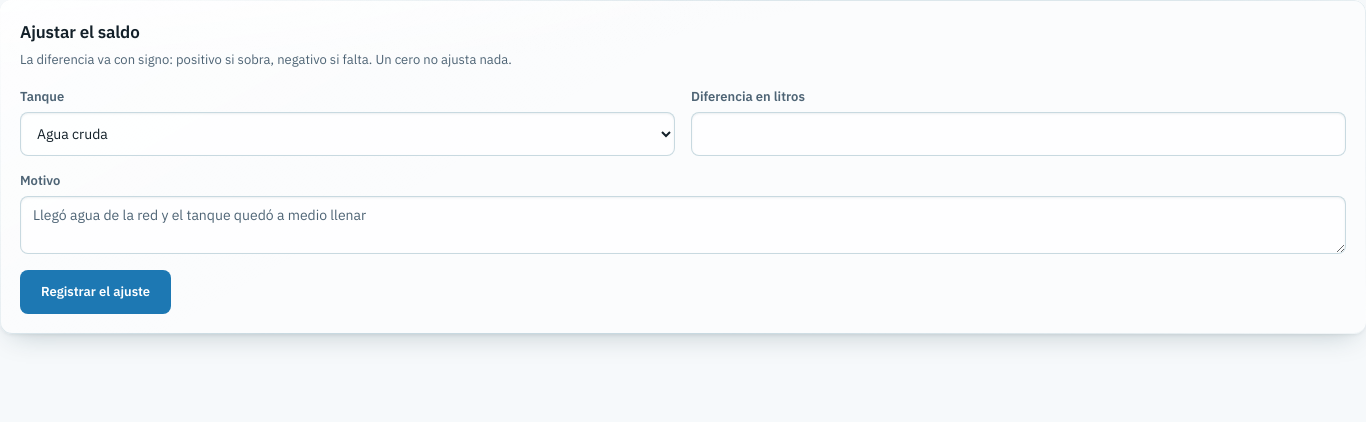
Test: AjustarAgua — el resultado se ve antes de confirmar › restar también, y el número baja
Step 1. Type "-500" into the number field labelled "Diferencia en litros" → (1018, 134), box 691,112 -> 1346,156
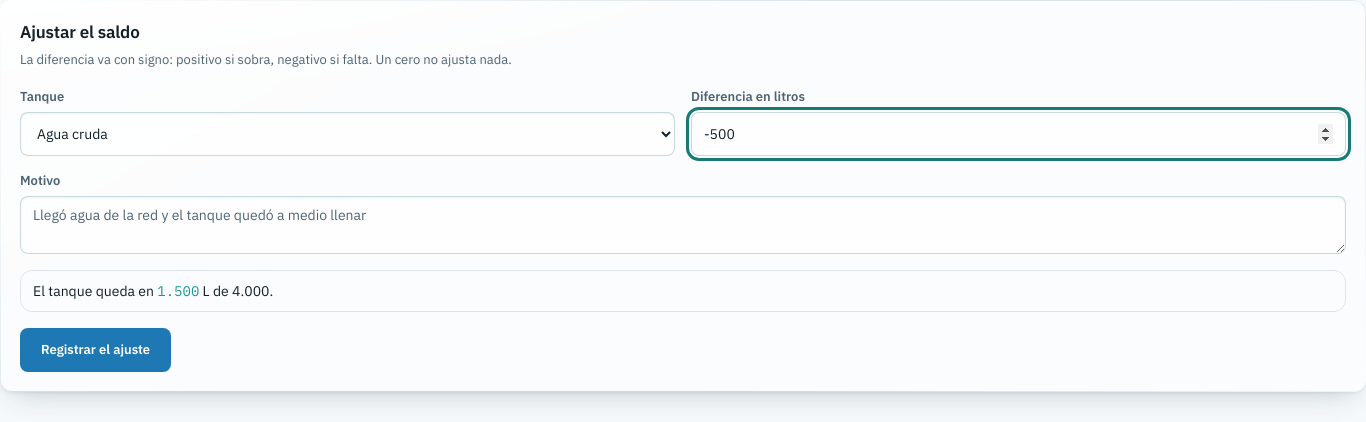
Expected: the text "El tanque queda en 1.500 L de 4.000." is shown, 20,270 -> 1346,312
